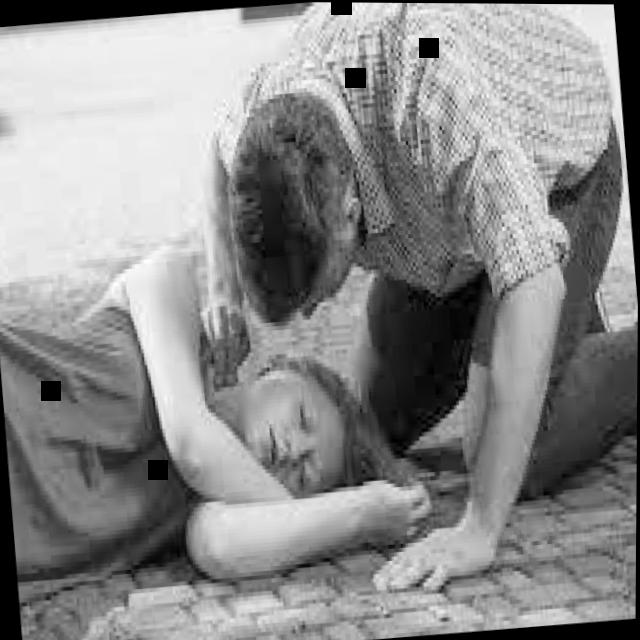Fall-Detected: (0, 134, 428, 639)
